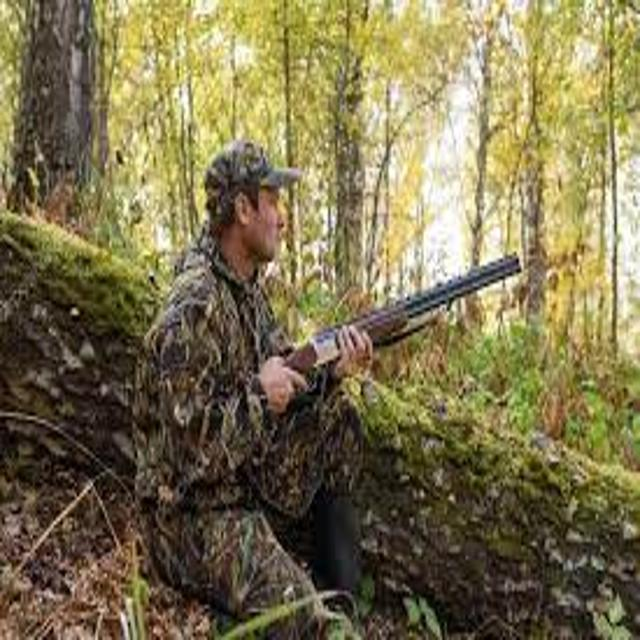gun: (194, 232, 560, 459)
poacher: (98, 102, 431, 638)
